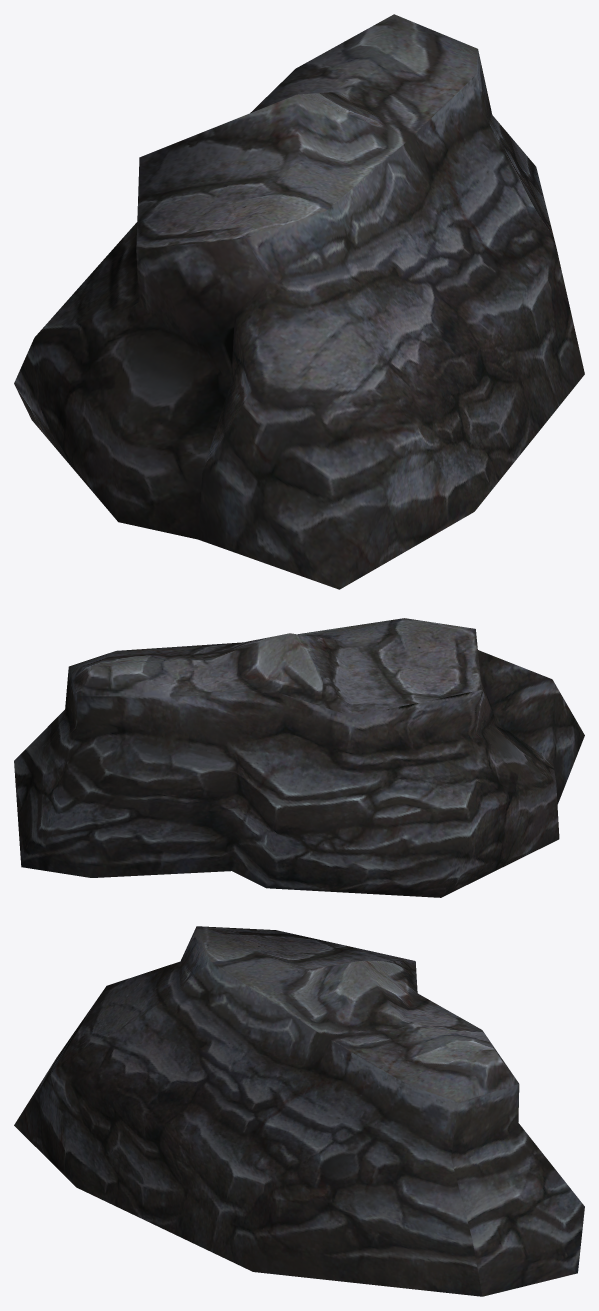
Rendered from GWZ_Stone_07_LOD2.FBX.
The picture shows the model from 3 angles, top to bottom: view 1: azimuth 30°, elevation 25°; view 2: azimuth 150°, elevation 25°; view 3: azimuth 270°, elevation 25°; orthographic projection. The views are drawn at different scales.
Parts seen in each view (by area): view 1: GWZ_Stone_07_LOD2; view 2: GWZ_Stone_07_LOD2; view 3: GWZ_Stone_07_LOD2.
Boxes of the visible parts, left/top/right/bottom form: GWZ_Stone_07_LOD2: left=14, top=14, right=584, bottom=589; GWZ_Stone_07_LOD2: left=14, top=618, right=584, bottom=897; GWZ_Stone_07_LOD2: left=14, top=926, right=584, bottom=1296.
Size of the model in its own units: 4234 by 2020 by 4506.
